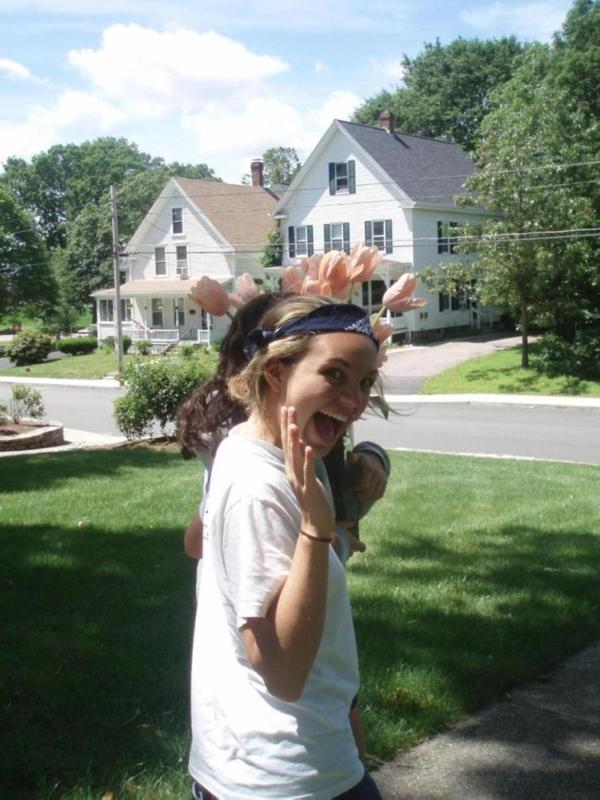person: (190, 291, 381, 800)
